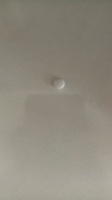Yuvarlak Buskopan: (52, 76, 66, 90)
